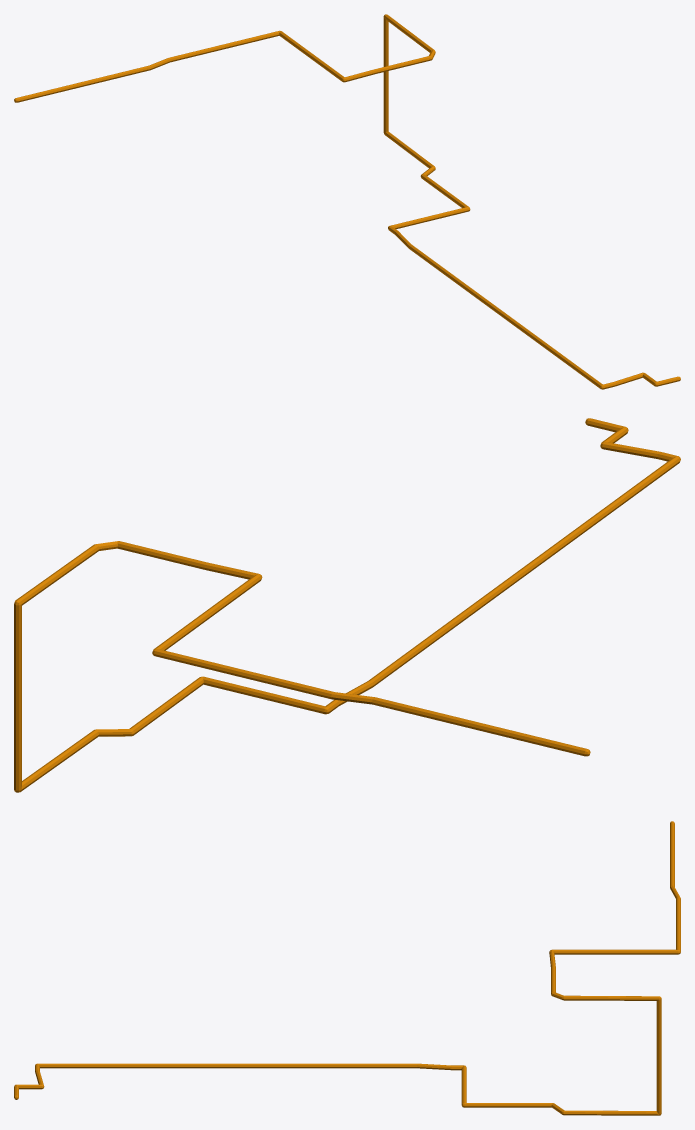
The picture shows the model from 3 angles, top to bottom: view 1: azimuth 30°, elevation 25°; view 2: azimuth 150°, elevation 25°; view 3: azimuth 270°, elevation 25°; orthographic projection. The views are drawn at different scales.
Bounding box in the file's own units: 1655 × 520 × 2633.
